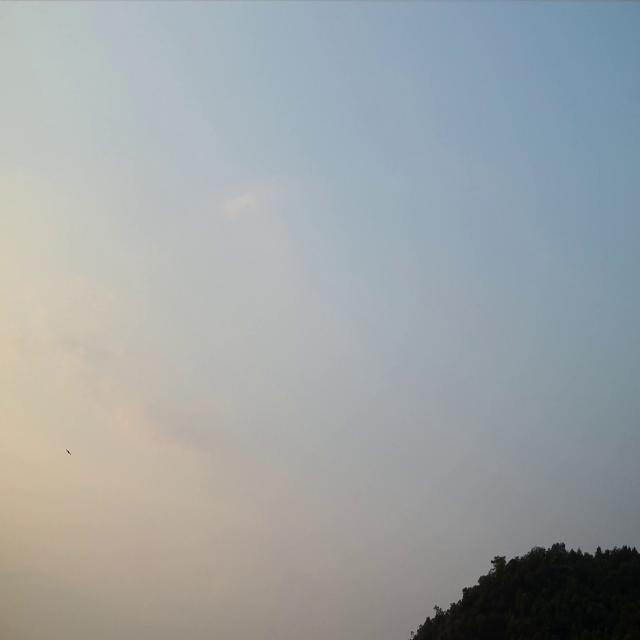UAV: (65, 447, 72, 456)
